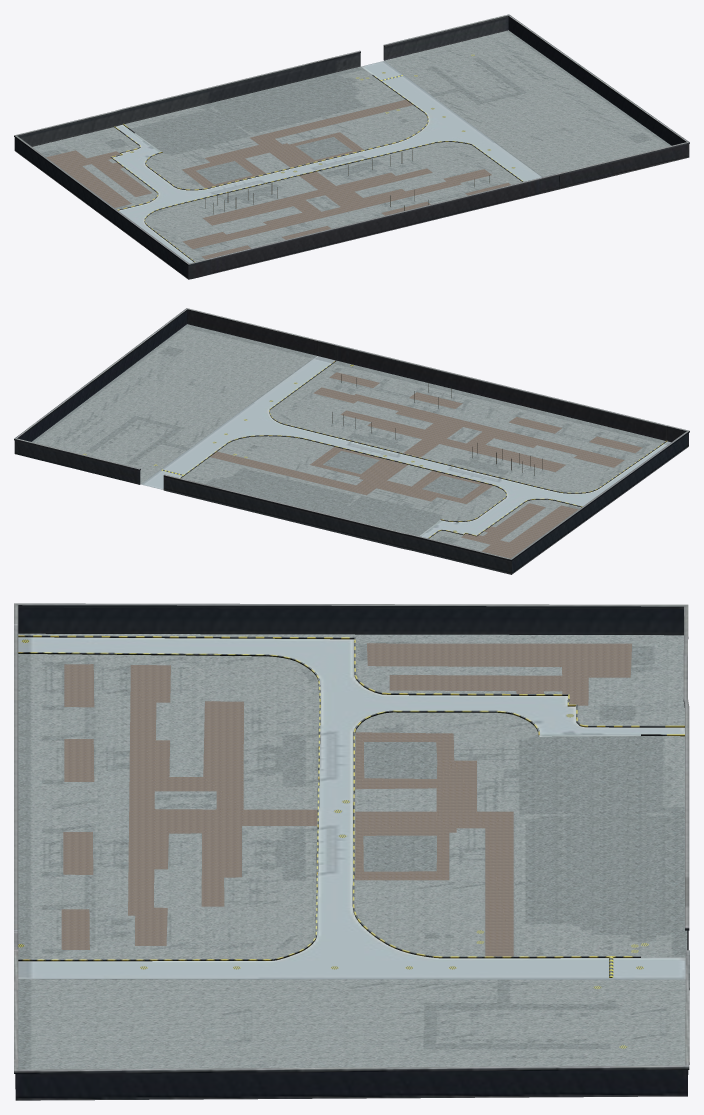
The picture shows the model from 3 angles, top to bottom: view 1: azimuth 30°, elevation 25°; view 2: azimuth 150°, elevation 25°; view 3: azimuth 270°, elevation 25°; orthographic projection. The views are drawn at different scales.
Parts seen in each view (by area): view 1: 1-石子路面.2, 1-地面围墙.2, 1-材质.81, 1-警示加路栏; view 2: 1-石子路面.2, 1-地面围墙.2, 1-材质.81, 1-警示加路栏; view 3: 1-石子路面.2, 1-地面围墙.2, 1-材质.81, 1-警示加路栏.
Part boxes in pixels (left/top/right/bottom): 1-石子路面.2: left=32, top=30, right=671, bottom=261; 1-地面围墙.2: left=14, top=14, right=689, bottom=279; 1-材质.81: left=46, top=99, right=510, bottom=259; 1-警示加路栏: left=110, top=54, right=523, bottom=262; 1-石子路面.2: left=32, top=324, right=665, bottom=551; 1-地面围墙.2: left=14, top=308, right=689, bottom=574; 1-材质.81: left=210, top=372, right=642, bottom=558; 1-警示加路栏: left=83, top=360, right=667, bottom=538; 1-石子路面.2: left=18, top=633, right=687, bottom=1069; 1-地面围墙.2: left=14, top=603, right=689, bottom=1100; 1-材质.81: left=61, top=643, right=631, bottom=956; 1-警示加路栏: left=18, top=635, right=684, bottom=1048.
Size of the model in its own units: 77.92 by 2.3 by 47.55.
4 materials, 4 textured.
